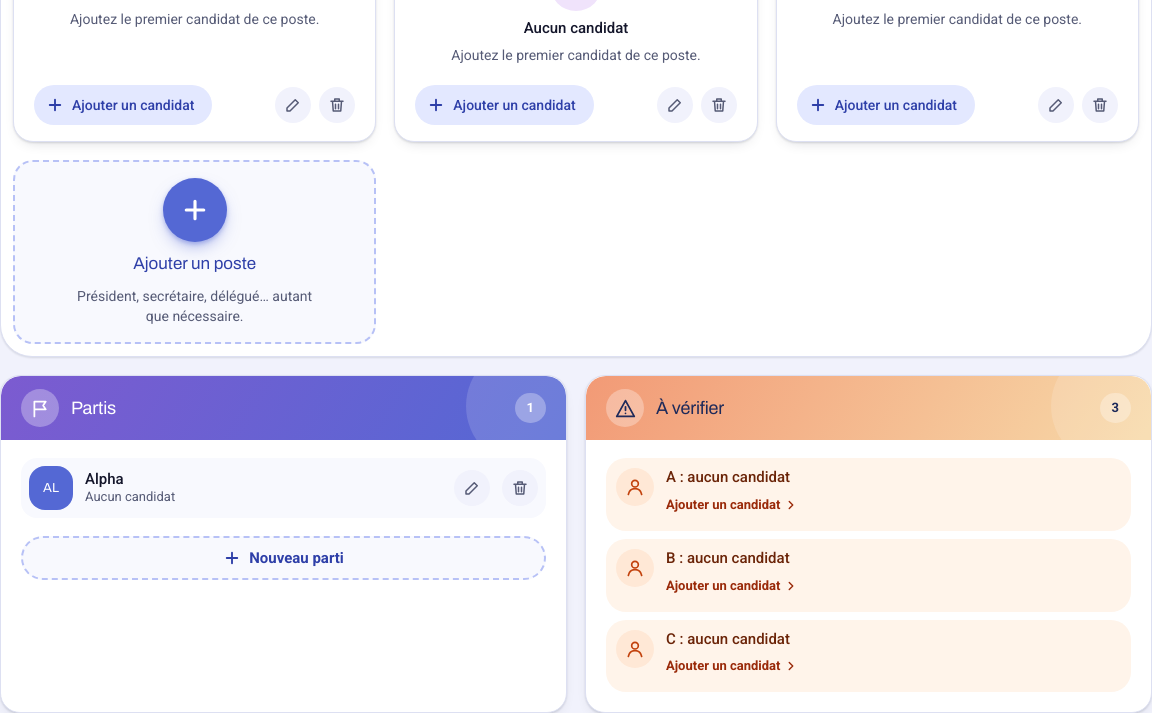
it: BallotsPage parties › asks before deleting, names the party, then removes the row
(page scrolled)
Step 1. Click the button with test id "party-delete-1" → (520, 488), box [502,470,538,506]
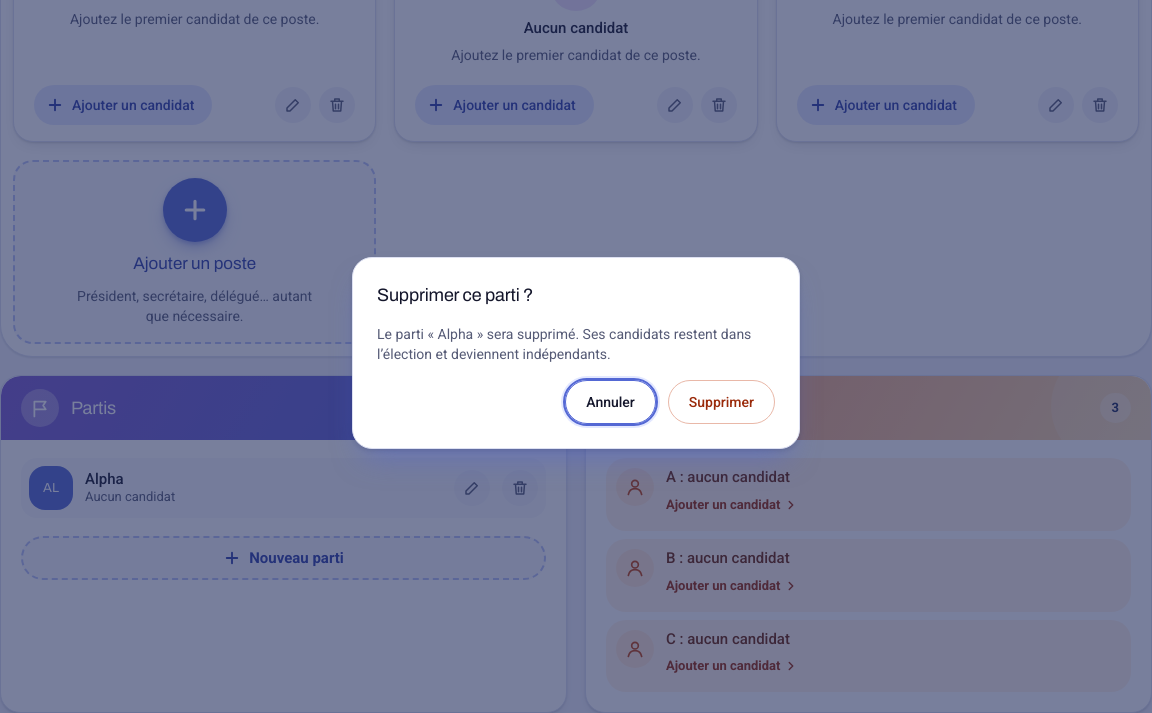
Expected: the dialog with test id "party-delete-dialog" shows "Alpha", [377,326,751,362]
Expected: the dialog with test id "party-delete-dialog" shows "indépendants", [377,326,751,362]
Step 2. Click the button with test id "party-delete-confirm" → (721, 402), box [668,380,775,424]
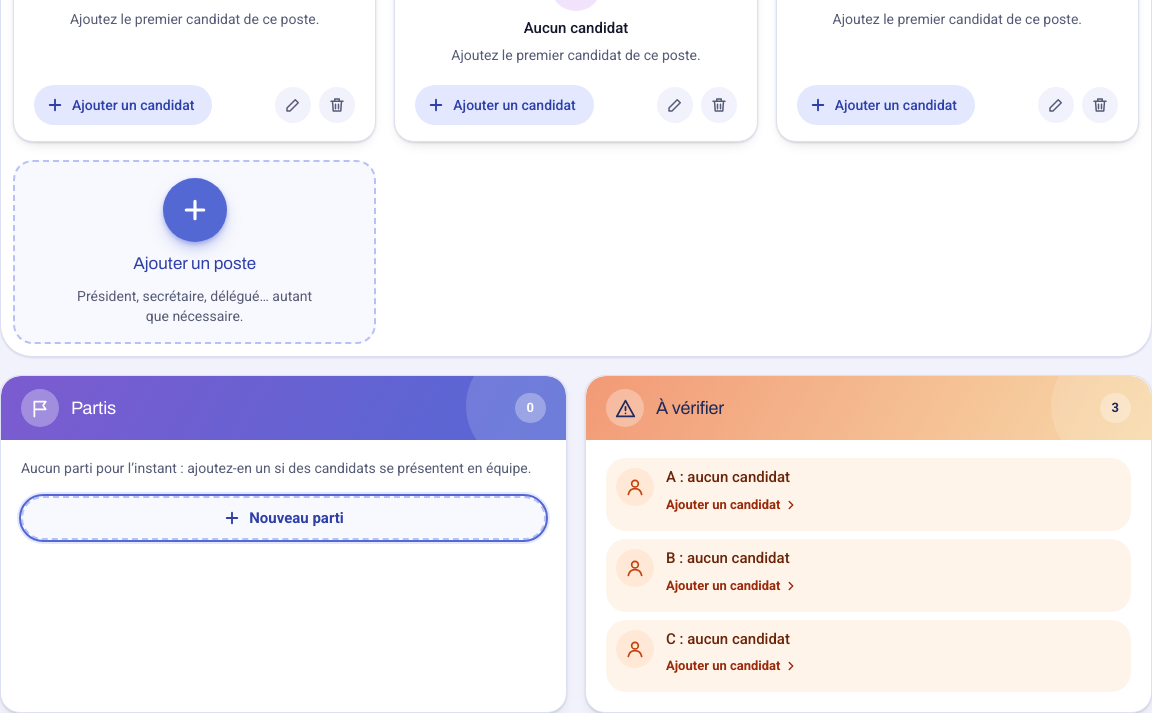
Expected: the list item with test id "party-row-1" is gone
Expected: the text with test id "parties-empty" is shown, [21,458,546,478]
